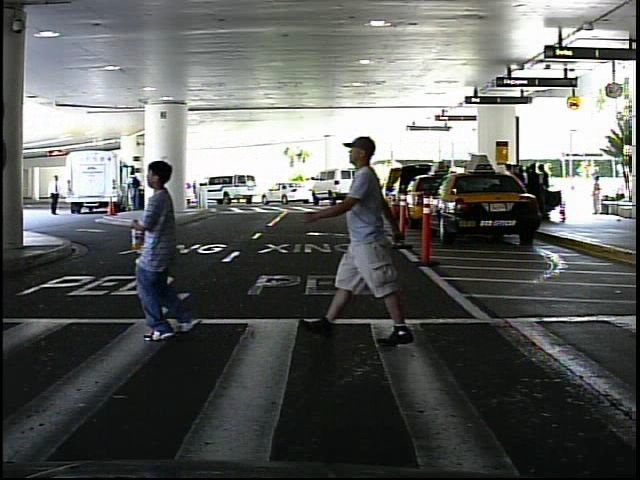person: (131, 156, 238, 354), (322, 126, 417, 348), (588, 172, 607, 218), (47, 171, 65, 218)
